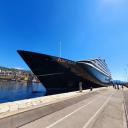cruises: (17, 43, 116, 91)
